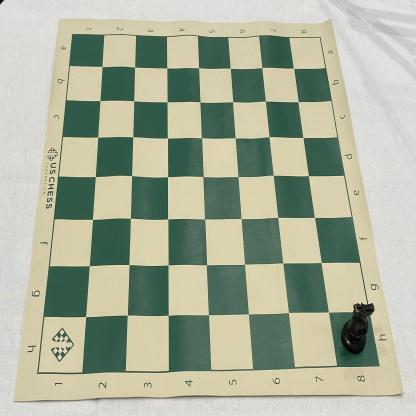black-knight: (341, 303, 375, 355)
